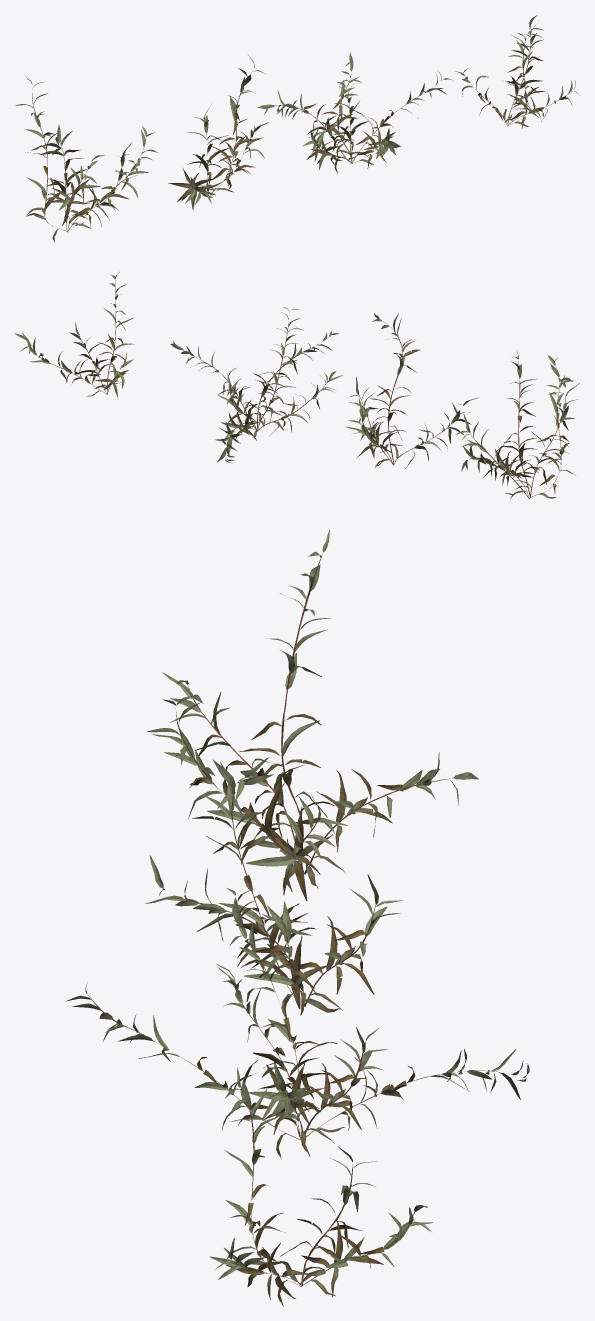
The model's file is shrub_02.glb.
3 renders of one model, top to bottom at view 1: azimuth 30°, elevation 25°; view 2: azimuth 150°, elevation 25°; view 3: azimuth 270°, elevation 25°, orthographic. The views are drawn at different scales.
Visible parts, largest first — view 1: shrub_02_c, shrub_02_a, shrub_02_b, shrub_02_d; view 2: shrub_02_a, shrub_02_c, shrub_02_b, shrub_02_d; view 3: shrub_02_a, shrub_02_c, shrub_02_b, shrub_02_d.
Boxes of the visible parts, left/top/right/bottom form: shrub_02_c: left=257, top=52, right=451, bottom=173; shrub_02_a: left=15, top=77, right=157, bottom=242; shrub_02_b: left=168, top=55, right=268, bottom=209; shrub_02_d: left=455, top=15, right=579, bottom=128; shrub_02_a: left=455, top=350, right=579, bottom=499; shrub_02_c: left=170, top=307, right=342, bottom=463; shrub_02_b: left=345, top=313, right=478, bottom=468; shrub_02_d: left=14, top=272, right=134, bottom=398; shrub_02_a: left=146, top=529, right=478, bottom=900; shrub_02_c: left=66, top=888, right=529, bottom=1158; shrub_02_b: left=145, top=757, right=403, bottom=1018; shrub_02_d: left=210, top=1067, right=432, bottom=1306.
Size of the model in its own units: 6.05 by 1.7 by 2.29.
Materials: 1 (1 with a texture image).
